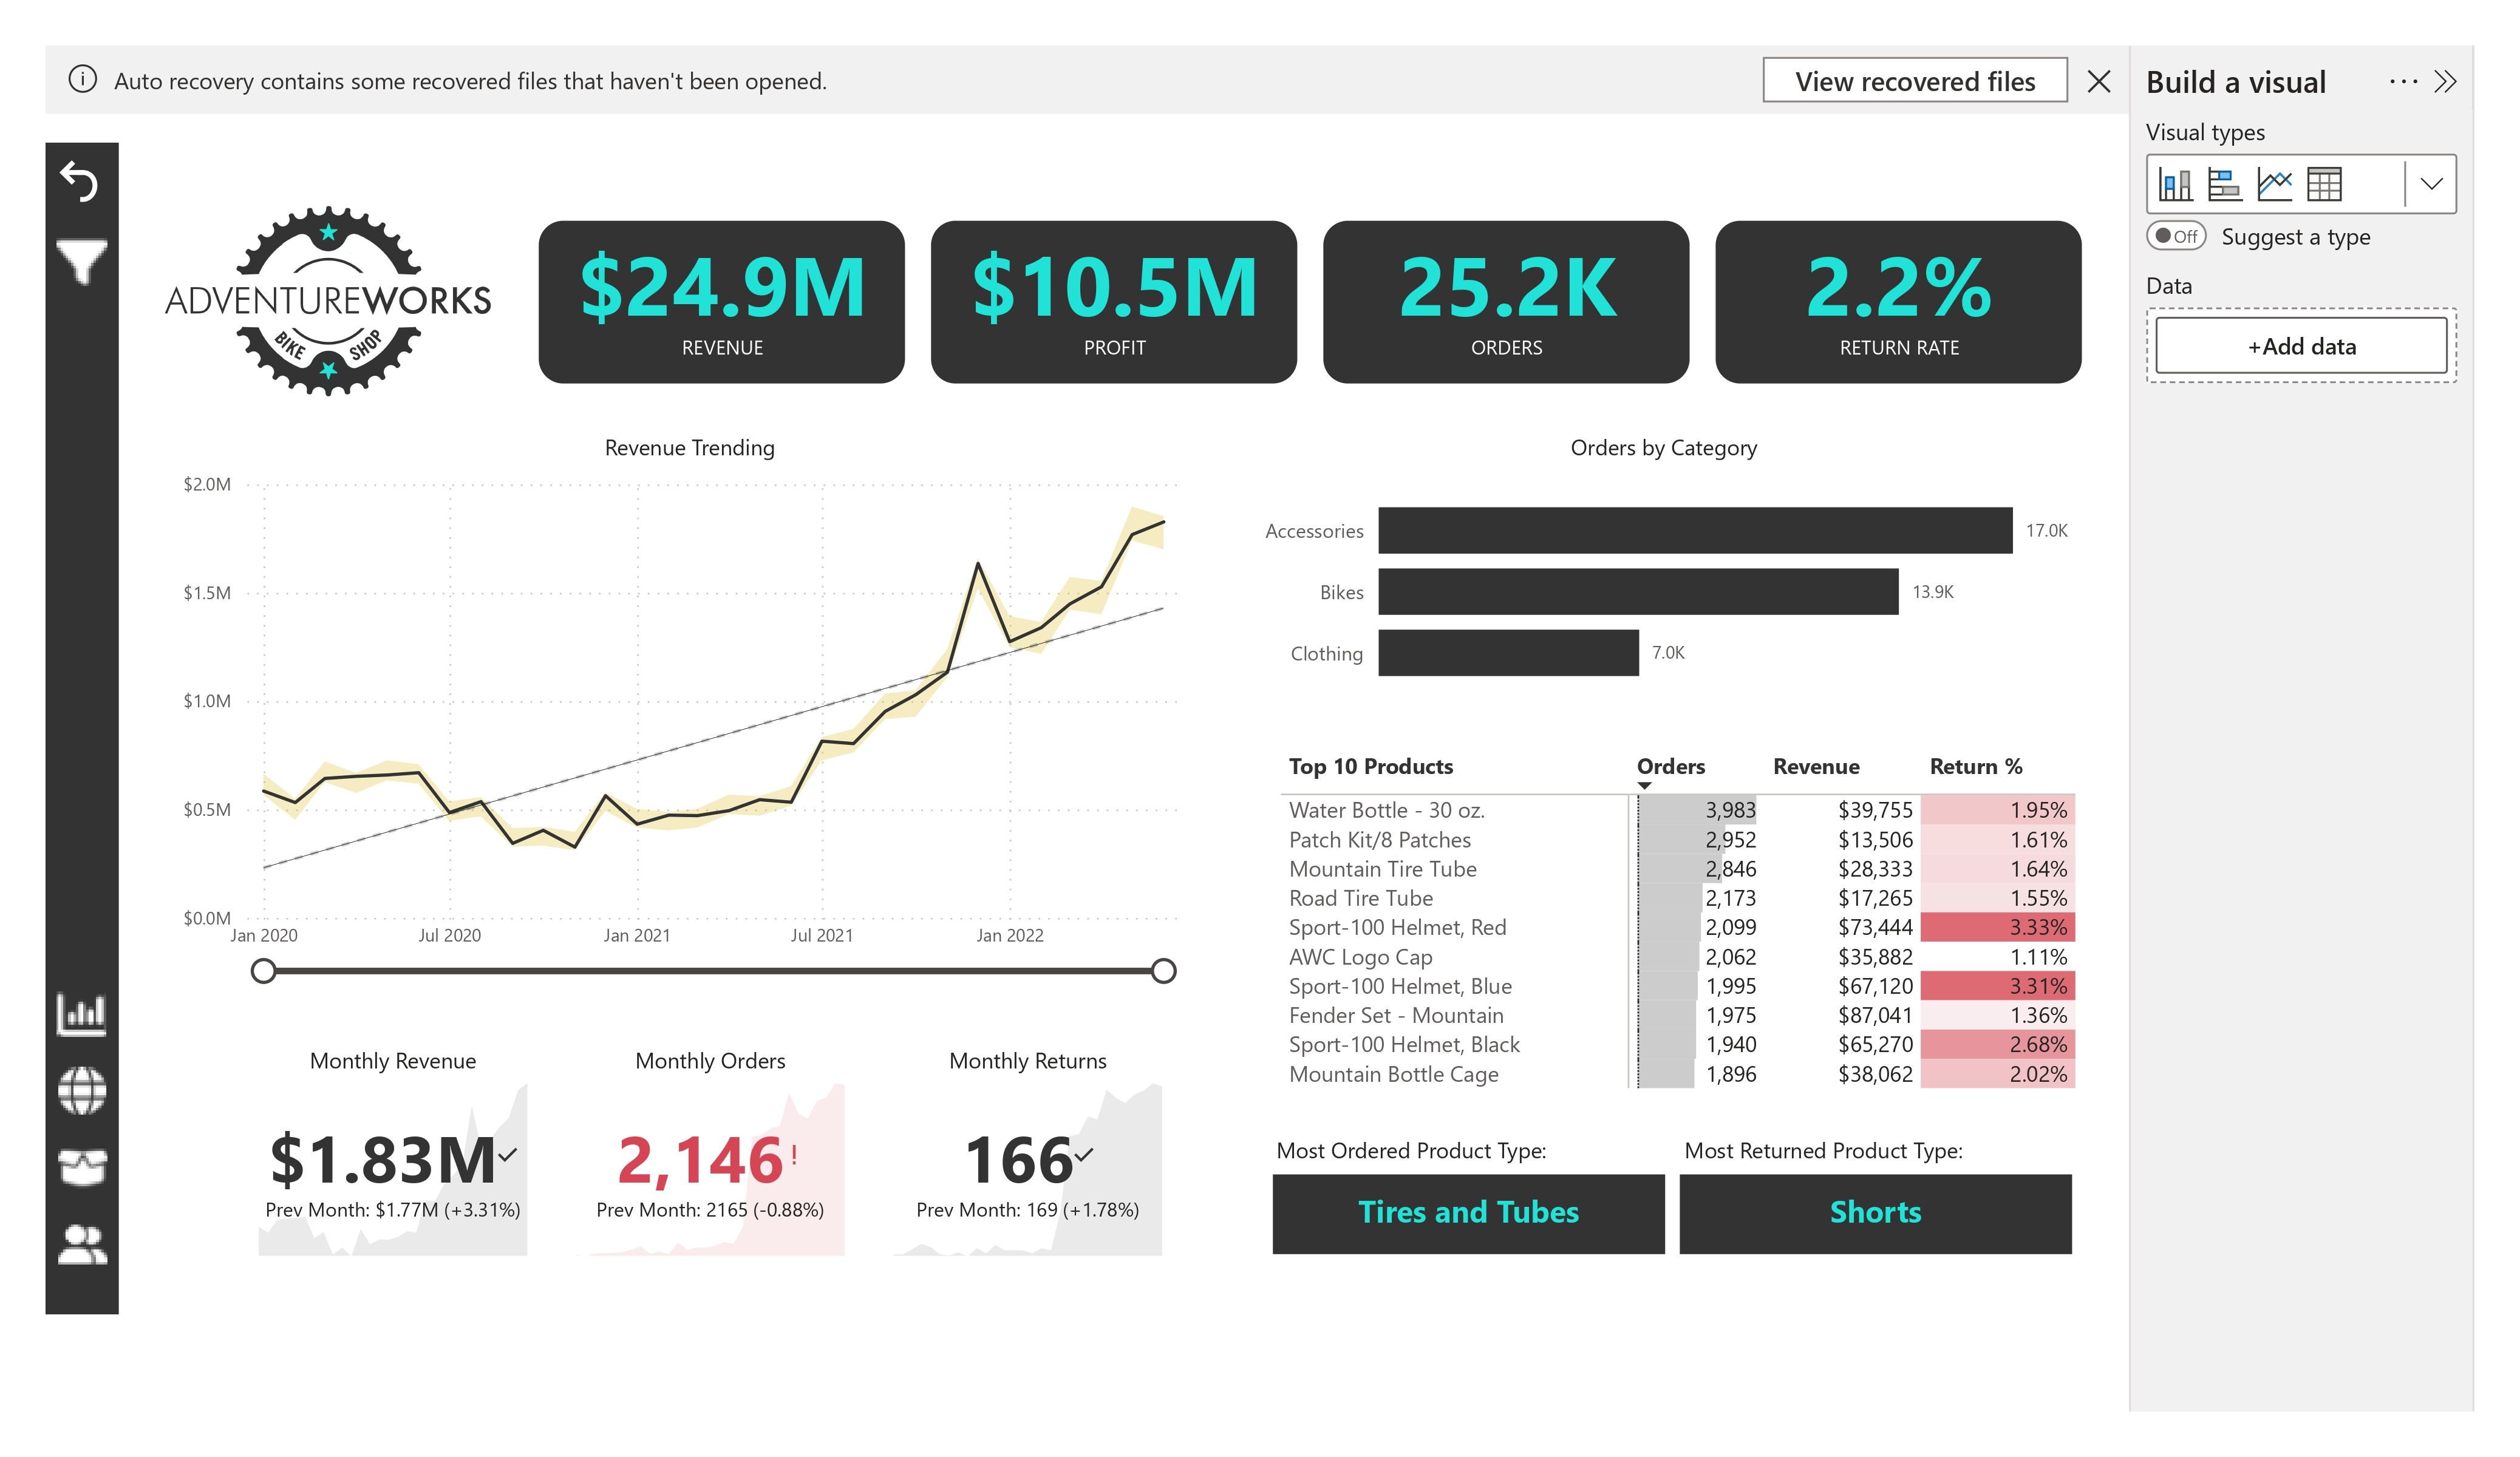

This screenshot's page, from the dashboard's own definition file:
{"tool":"powerbi","page":{"name":"Exec Dashboard","canvas":[1280,720],"ordinal":0},"visuals":[{"type":"card","fields":{"Values":["Measure Table.Total Revenue"]},"box":[288.1,17.8,256.2,150],"z":0,"group":"g2"},{"type":"image","title":"AW Logo","box":[45.6,26.6,256.2,141.2],"z":0},{"type":"shape","box":[303.1,47.8,225,100],"z":0,"group":"g1"},{"type":"actionButton","box":[2.5,516.7,45.6,37.8],"z":0,"group":"g3"},{"type":"card","fields":{"Values":["Measure Table.Total Profit"]},"box":[528.9,17.8,256.2,150],"z":1000,"group":"g2"},{"type":"shape","box":[543.9,47.8,225,100],"z":1000,"group":"g1"},{"type":"actionButton","box":[3.3,563.4,45.6,37.8],"z":1000,"group":"g3"},{"type":"card","fields":{"Values":["Measure Table.Total Orders"]},"box":[769.8,17.8,256.2,150],"z":2000,"group":"g2"},{"type":"group","id":"g1","title":"KPI Backgrounds","box":[303.1,47.8,947.5,100],"z":2000},{"type":"shape","box":[784.8,47.8,225,100],"z":2000,"group":"g1"},{"type":"actionButton","box":[3.3,611.1,45.6,37.8],"z":2000,"group":"g3"},{"type":"shape","title":"Left Nav Background","box":[0,0,45,720],"z":3000},{"type":"card","fields":{"Values":["Measure Table.Return Rate"]},"box":[1010.6,17.8,256.2,150],"z":3000,"group":"g2"},{"type":"shape","box":[1025.6,47.8,225,100],"z":3000,"group":"g1"},{"type":"actionButton","box":[3.3,657.8,45.6,37.8],"z":3000,"group":"g3"},{"type":"group","id":"g2","title":"KPI Values","box":[288.1,17.8,978.8,150],"z":4000},{"type":"lineChart","title":"Revenue Trending","fields":{"Y":["Measure Table.Total Revenue"],"Category":["Calendar Lookup.Start of Month"]},"box":[78.9,177.7,633.8,342.5],"z":5000},{"type":"kpi","title":"Monthly Revenue","fields":{"Indicator":["Measure Table.Total Revenue"],"TrendLine":["Calendar Lookup.Start of Month"],"Goal":["Measure Table.Previous Month Revenue"]},"box":[126.2,555,175,133.8],"z":6000},{"type":"kpi","title":"Monthly Orders","fields":{"TrendLine":["Calendar Lookup.Start of Month"],"Indicator":["Measure Table.Total Orders"],"Goal":["Measure Table.Previous Month Orders"]},"box":[321.2,555,175,133.8],"z":7000},{"type":"kpi","title":"Monthly Returns","fields":{"TrendLine":["Calendar Lookup.Start of Month"],"Indicator":["Measure Table.Total Returns"],"Goal":["Measure Table.Previous Month Returns"]},"box":[516.2,555,175,133.8],"z":8000},{"type":"clusteredBarChart","title":"Orders by Category","fields":{"Category":["Product Categories Lookup.CategoryName"],"Y":["Measure Table.Total Orders"]},"box":[738.9,177.7,511.2,171.2],"z":9000},{"type":"pivotTable","fields":{"Rows":["Product Lookup.ProductName"],"Values":["Measure Table.Total Orders","Measure Table.Total Revenue","Measure Table.Return Rate"]},"box":[753.7,369.2,511.1,228.4],"z":10000},{"type":"card","fields":{"Values":["Min(Product Subcategories Lookup.SubcategoryName)"]},"box":[753.7,634.2,241.4,48.5],"z":11000},{"type":"textbox","box":[751.3,604.6,198.8,35.5],"z":12000},{"type":"card","fields":{"Values":["Min(Product Subcategories Lookup.SubcategoryName)"]},"box":[1004.1,634.2,241.4,48.5],"z":13000},{"type":"textbox","box":[1002.2,605.2,198.8,35.5],"z":14000},{"type":"actionButton","box":[3.3,5.6,35.6,35.6],"z":15000},{"type":"group","id":"g3","title":"Navigation Buttons","box":[2.5,516.7,46.4,178.9],"z":16000},{"type":"actionButton","box":[3.4,53.1,38.4,39.6],"z":17000}]}

Visuals, with their boxes on the page's 1280x720 design canvas (x1, y1, x2, y2). These are canvas units, not pixel positions in the 2520x1457 screenshot, which may show the page scaled, cropped or inside an application window:
card - Measure Table.Total Revenue: Rect(288, 18, 544, 168)
"AW Logo" image: Rect(46, 27, 302, 168)
shape: Rect(303, 48, 528, 148)
actionButton: Rect(2, 517, 48, 554)
card - Measure Table.Total Profit: Rect(529, 18, 785, 168)
shape: Rect(544, 48, 769, 148)
actionButton: Rect(3, 563, 49, 601)
card - Measure Table.Total Orders: Rect(770, 18, 1026, 168)
"KPI Backgrounds" group: Rect(303, 48, 1251, 148)
shape: Rect(785, 48, 1010, 148)
actionButton: Rect(3, 611, 49, 649)
"Left Nav Background" shape: Rect(0, 0, 45, 720)
card - Measure Table.Return Rate: Rect(1011, 18, 1267, 168)
shape: Rect(1026, 48, 1251, 148)
actionButton: Rect(3, 658, 49, 696)
"KPI Values" group: Rect(288, 18, 1267, 168)
"Revenue Trending" lineChart: Rect(79, 178, 713, 520)
"Monthly Revenue" kpi: Rect(126, 555, 301, 689)
"Monthly Orders" kpi: Rect(321, 555, 496, 689)
"Monthly Returns" kpi: Rect(516, 555, 691, 689)
"Orders by Category" clusteredBarChart: Rect(739, 178, 1250, 349)
pivotTable - Product Lookup.ProductName x Measure Table.Total Orders: Rect(754, 369, 1265, 598)
card - Min(Product Subcategories Lookup.SubcategoryName): Rect(754, 634, 995, 683)
textbox: Rect(751, 605, 950, 640)
card - Min(Product Subcategories Lookup.SubcategoryName): Rect(1004, 634, 1246, 683)
textbox: Rect(1002, 605, 1201, 641)
actionButton: Rect(3, 6, 39, 41)
"Navigation Buttons" group: Rect(2, 517, 49, 696)
actionButton: Rect(3, 53, 42, 93)
